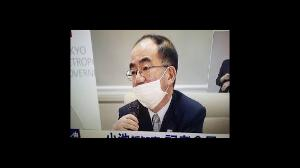mask_weared_incorrect: (125, 56, 165, 100)
